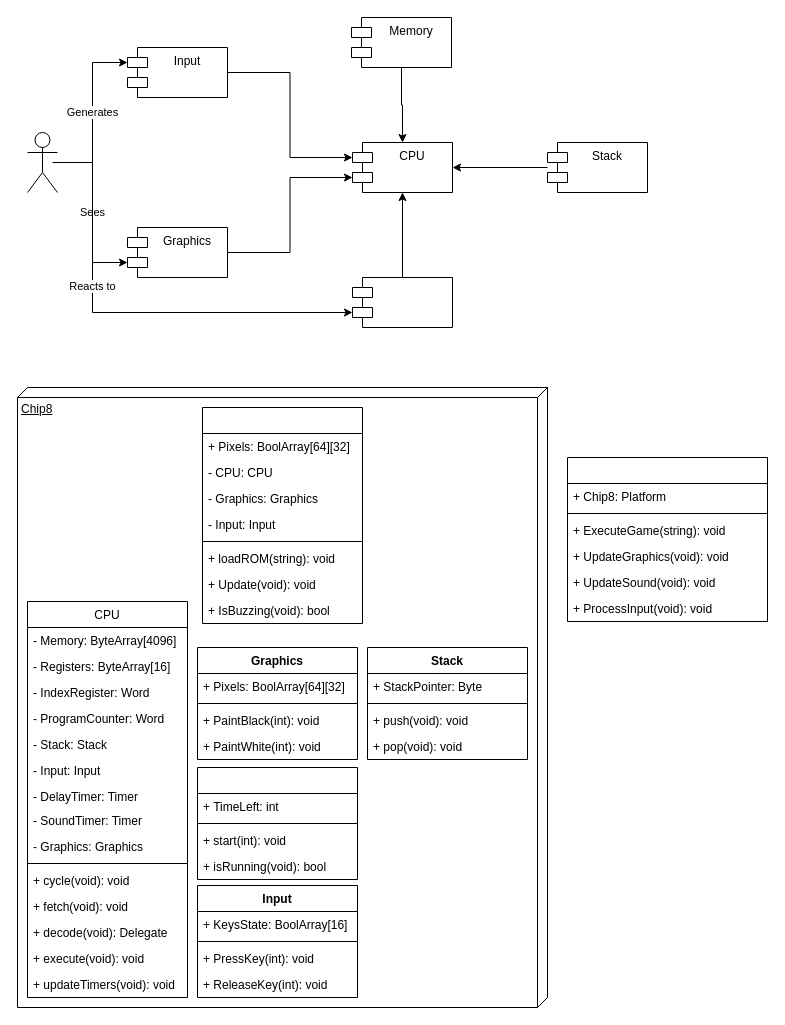
Some shapes in this 785 by 1025 pixel diagram are drawn without their labels. The box of each missing label's shape, as (x1, y1, x2, y2) in pixels:
Gamer: (26, 132, 58, 192)
Main: (566, 456, 768, 622)
Platform: (202, 406, 362, 624)
Timer: (196, 766, 358, 880)
Timers: (352, 276, 452, 328)
